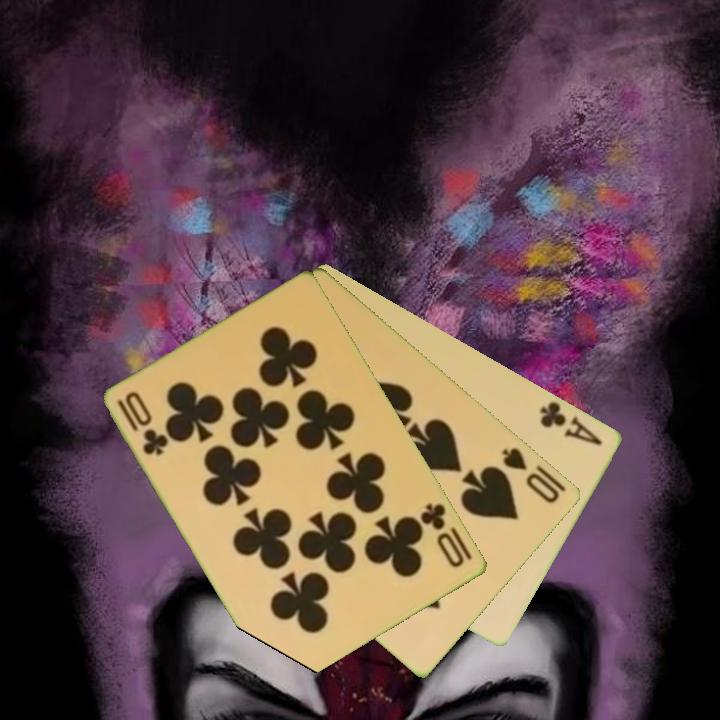10c: (114, 388, 172, 459), (417, 500, 468, 571)
10s: (498, 444, 563, 507)
Ac: (537, 398, 606, 448)
